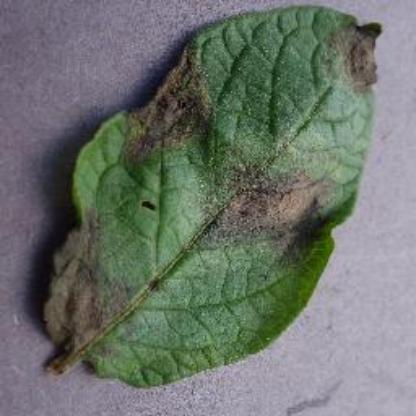Late-Blight: (21, 6, 404, 398)
